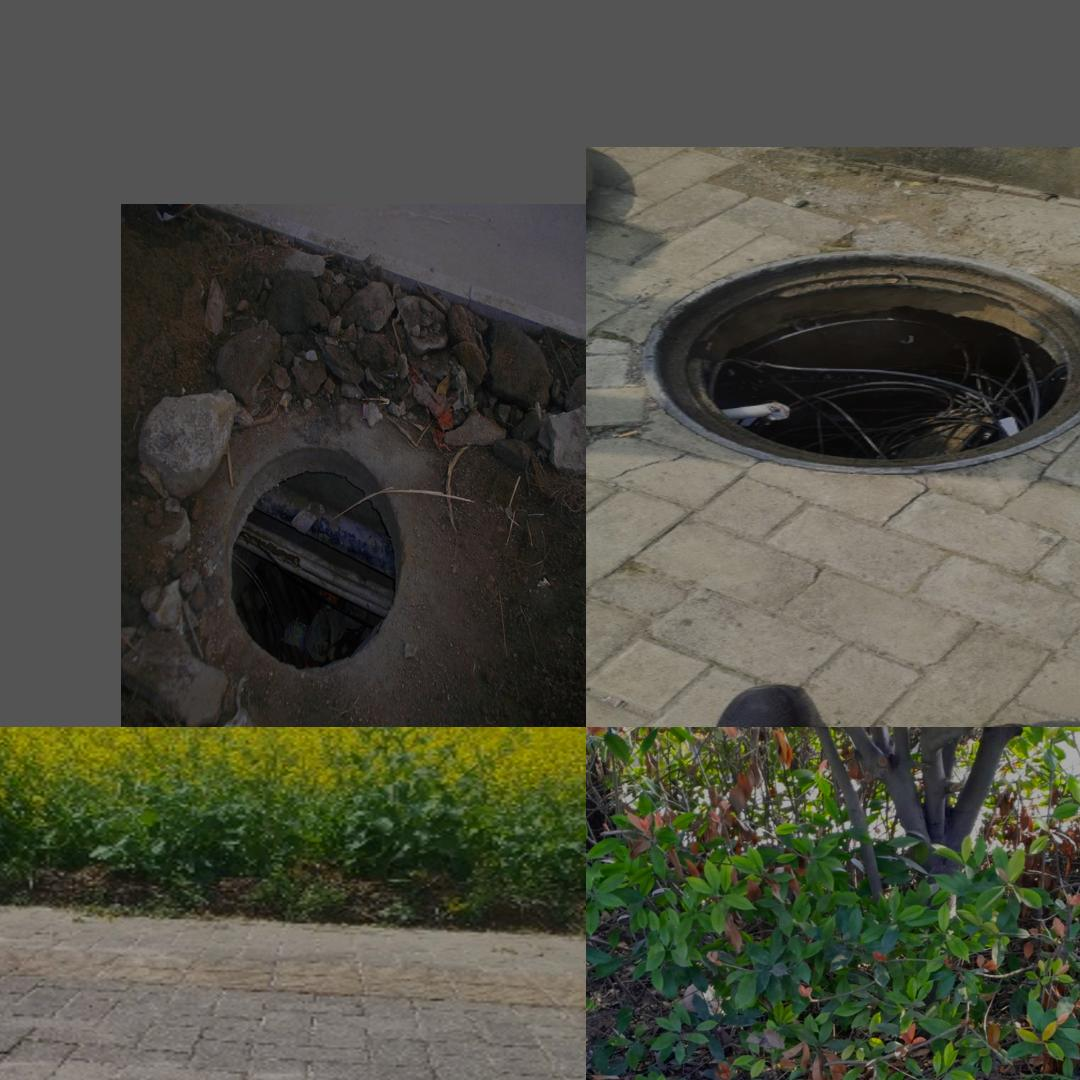lose: (636, 248, 1080, 476), (222, 444, 406, 675)
